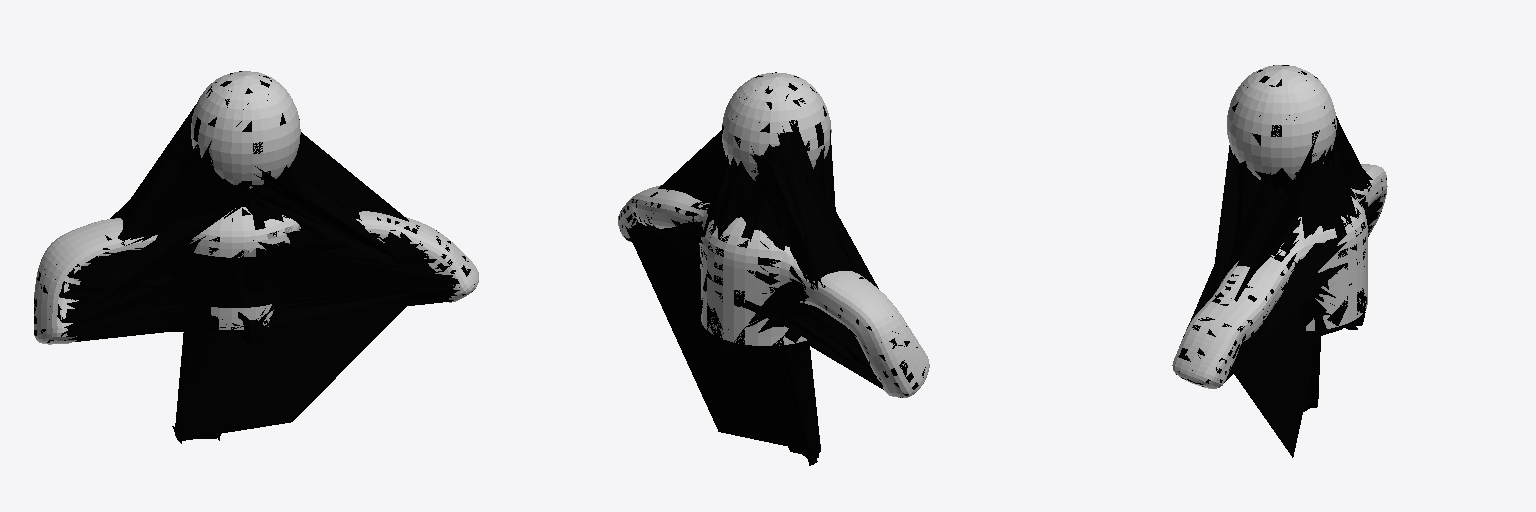
Rendered from teainfuserv2.obj.
The picture shows the model from 3 angles: view 1: azimuth 30°, elevation 25°; view 2: azimuth 150°, elevation 25°; view 3: azimuth 270°, elevation 25°; orthographic projection.
Visible parts, largest first — view 1: Object001, Sphere003; view 2: Object001, Sphere003; view 3: Object001, Sphere003.
Part boxes in pixels (x1,y1,x2,y2): Object001: (34,71,474,443); Sphere003: (34,71,478,344); Object001: (619,72,925,465); Sphere003: (618,73,929,397); Object001: (1176,65,1386,457); Sphere003: (1172,65,1387,388).
Size of the model in its own units: 38.68 by 36.37 by 19.48.